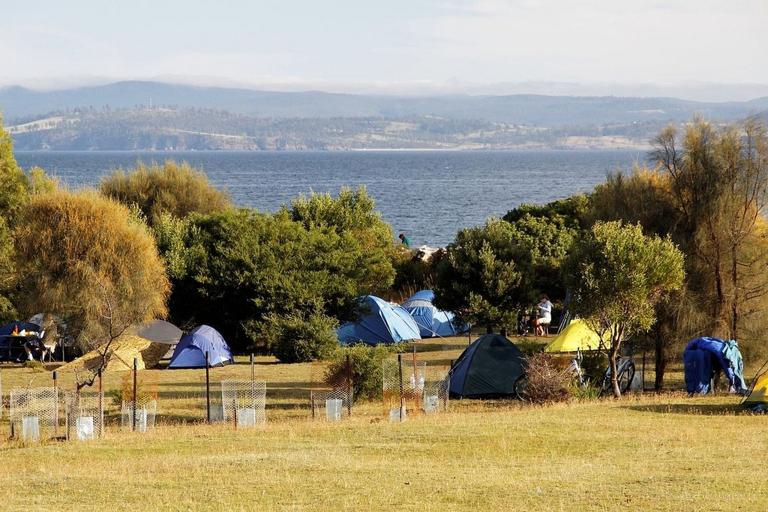non-vehicle: (511, 344, 603, 403), (596, 348, 636, 400)
